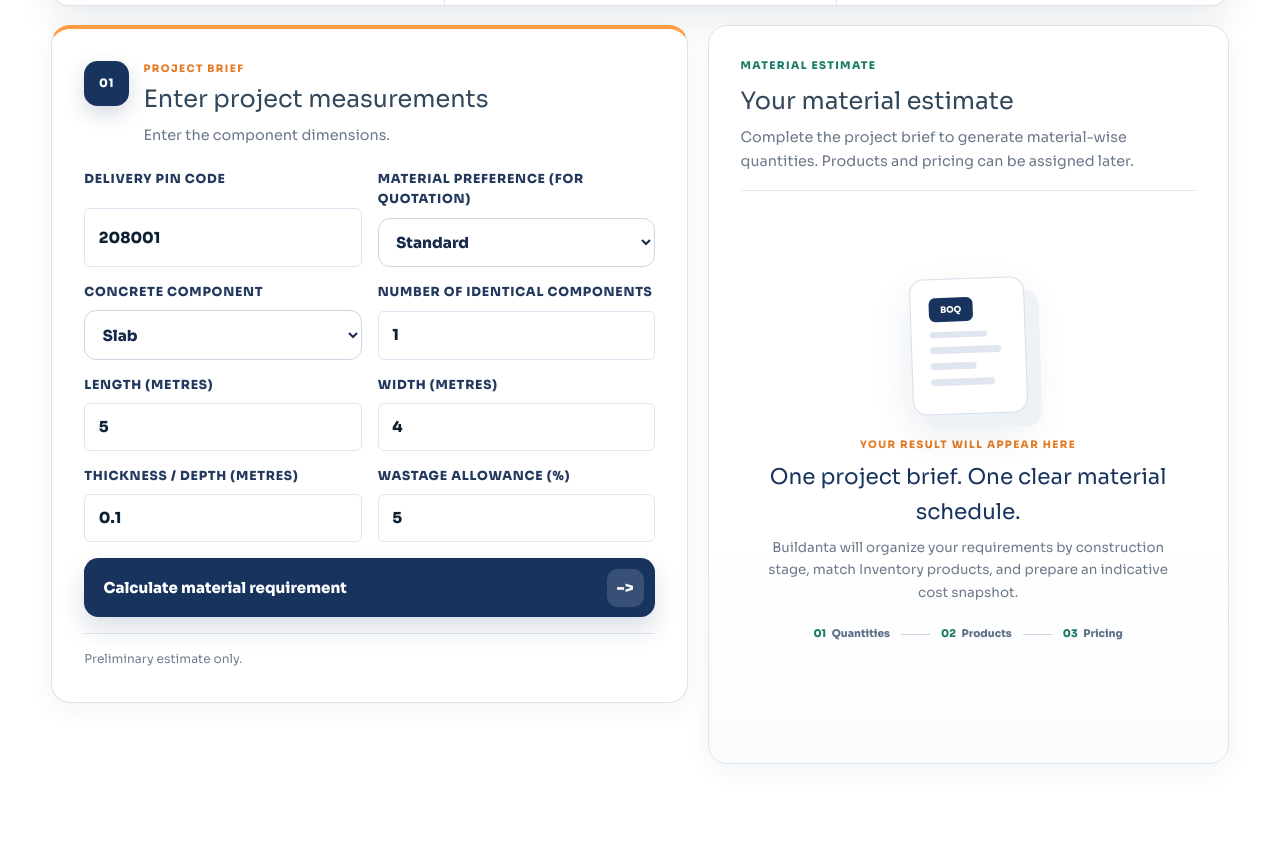
CalculatorWizard › renders quantity-only materials when inventory products and prices are not mapped
This screenshot has width=1280, height=867.
Click the text "Calculate material requirement": x=225, y=588 103,576 -> 347,600
(page scrolled)
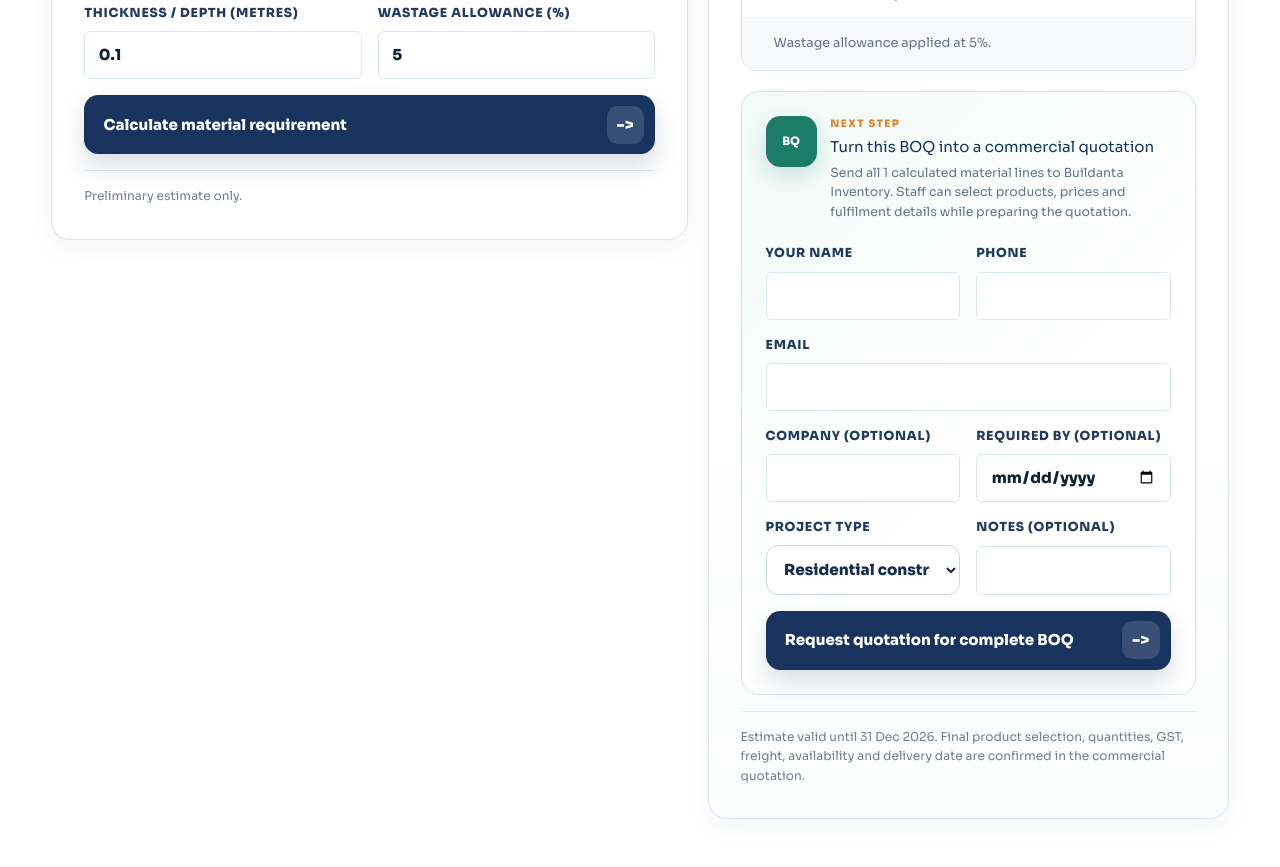
Now the text "Staff can select products, prices and fulfilment details" is shown, box 830,165 -> 1131,220
Now the text "Request quotation for complete BOQ" is shown, box 785,628 -> 1074,652
